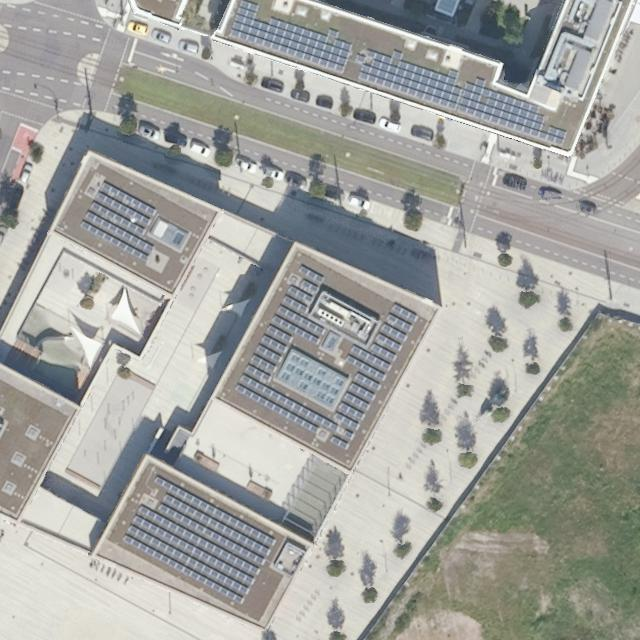PV: (229, 260, 423, 456), (117, 472, 281, 609), (353, 47, 569, 149), (227, 0, 354, 78), (77, 180, 160, 265)
